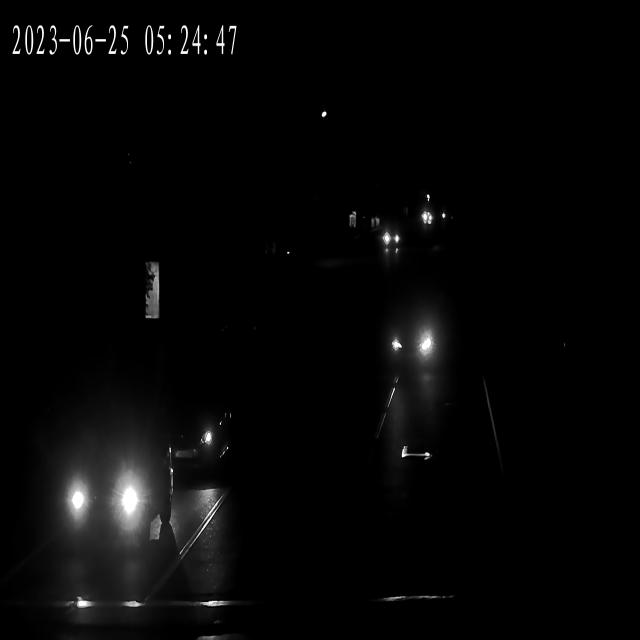Car: (50, 403, 171, 580), (160, 391, 242, 485), (383, 307, 443, 387), (378, 222, 402, 266)
